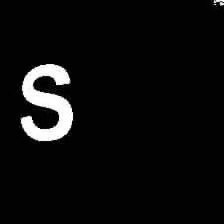LTR_S: (14, 57, 79, 144)
